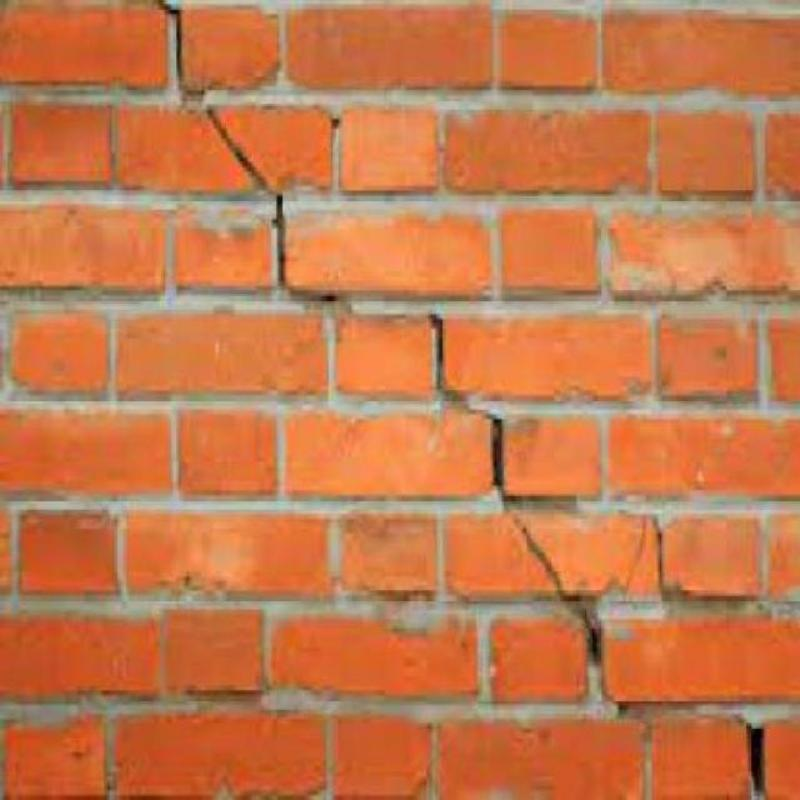crack: (428, 314, 602, 669), (165, 0, 281, 287), (624, 516, 648, 591), (748, 725, 766, 799)
